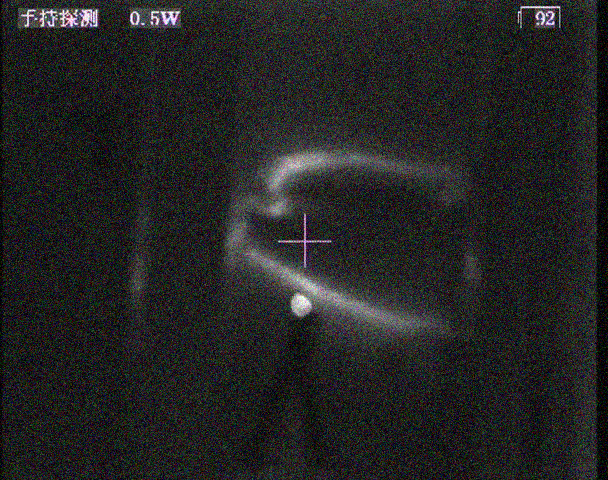my: (287, 292, 314, 318)
